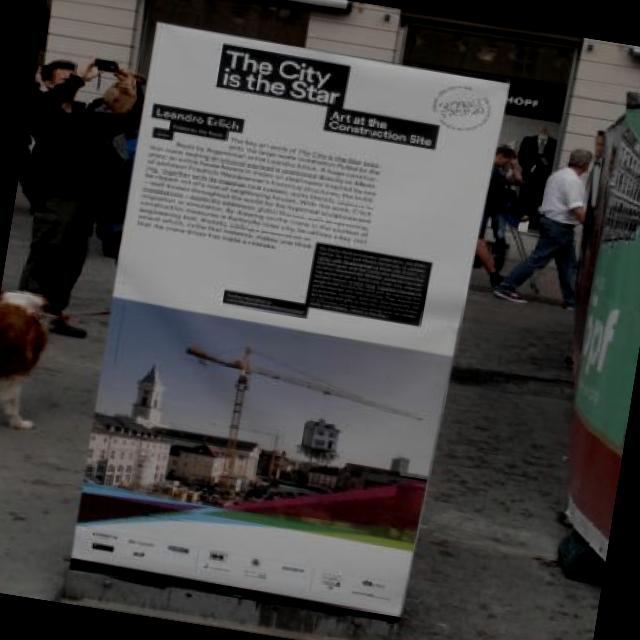Person: (0, 46, 152, 341), (507, 118, 626, 320), (472, 143, 533, 277), (566, 130, 608, 300), (88, 146, 144, 264), (504, 130, 557, 229)
